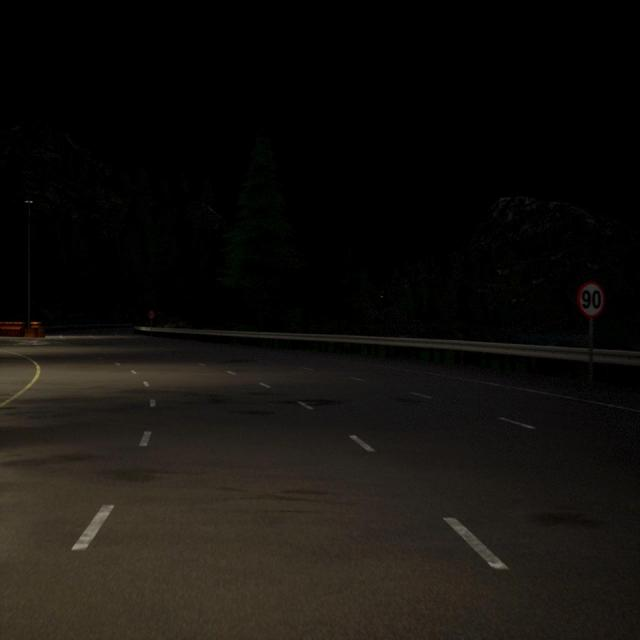Traffic_Signs: (578, 282, 604, 318), (148, 311, 155, 318)
